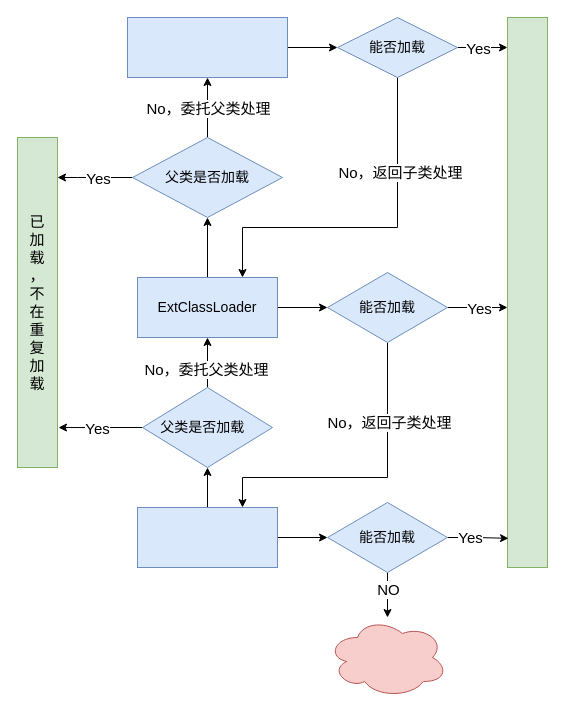
This 565x715 diagram has some shape labels left out. Each missing label, with the centre of its shape:
"AppClassLoader" belongs at point (207, 537).
"BootstrapClassLoader" belongs at point (207, 47).
"加 载 该 类" belongs at point (527, 292).
"加载失败" belongs at point (387, 657).
